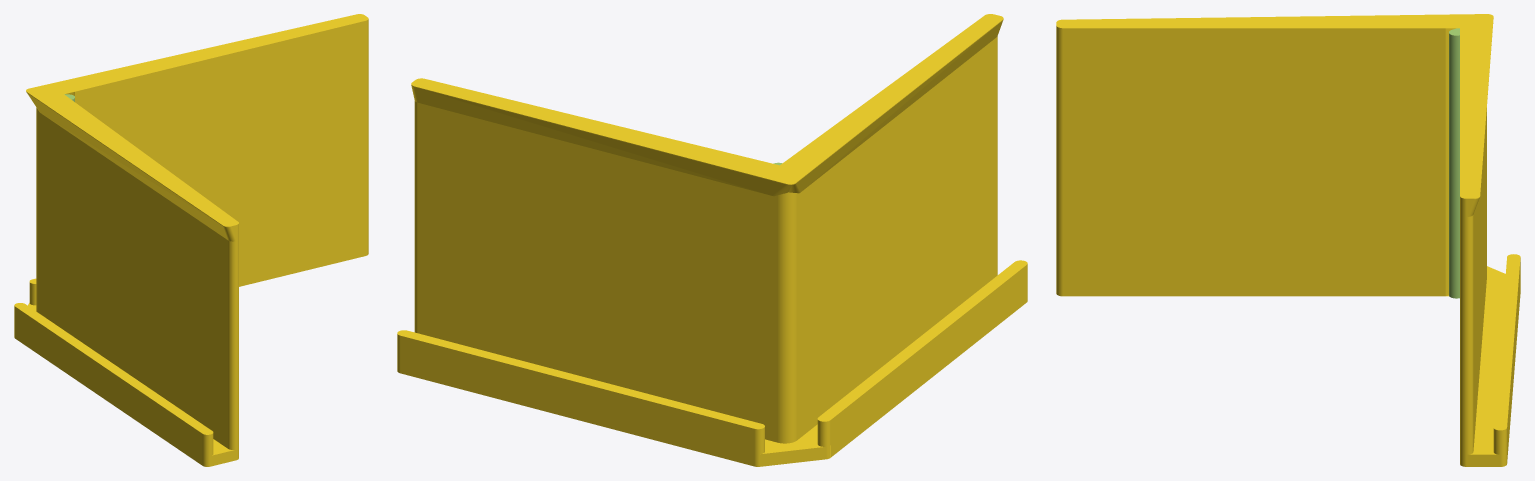
Rendered from openscad_strap-clamp-corner-bracket.glb.
3 views of the same model, side by side, from view 1: azimuth 30°, elevation 25°; view 2: azimuth 150°, elevation 25°; view 3: azimuth 270°, elevation 25° (orthographic). The views are drawn at different scales.
Visible parts, largest first — view 1: object; view 2: object; view 3: object.
Part boxes in pixels (box(x1,y1,x2,y2)): object: box(14, 14, 368, 466); object: box(397, 14, 1027, 466); object: box(1056, 14, 1520, 466).
Size of the model in its own units: 69 by 44 by 69.
